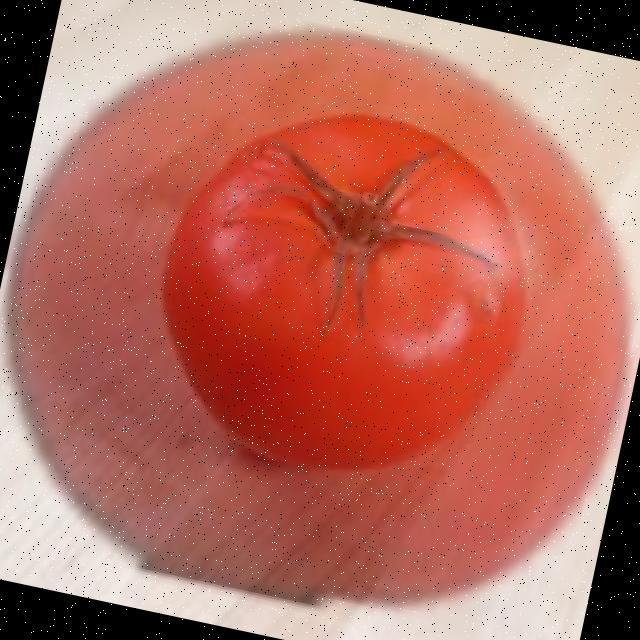tomato: (168, 117, 526, 473)
